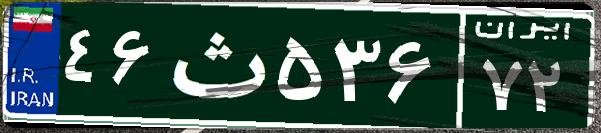2: (525, 38, 570, 115)
3: (330, 28, 385, 110)
4: (57, 26, 110, 107)
5: (273, 28, 330, 110)
6: (385, 28, 445, 110), (110, 28, 158, 105)
7: (475, 38, 525, 113)
ث: (158, 15, 273, 115)
